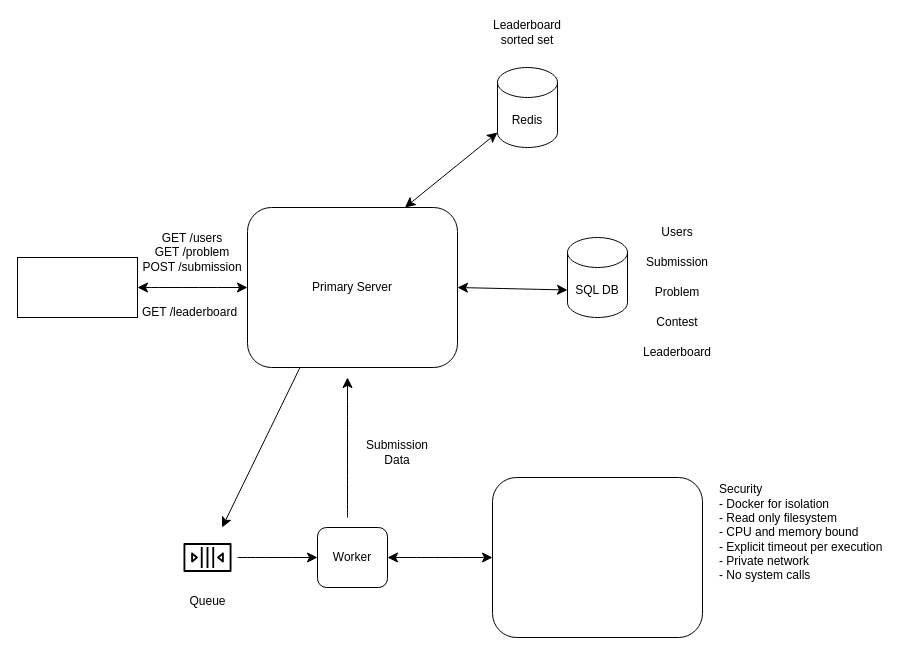
The diagram is 915 pixels wide and 655 high, and some of its shapes have lost their labels. Here are the shapes that lost their labels. From the top down, the centre of each, then its label:
At (x=77, y=287): "Client (Web browser)".
At (x=597, y=557): "Docker container".
